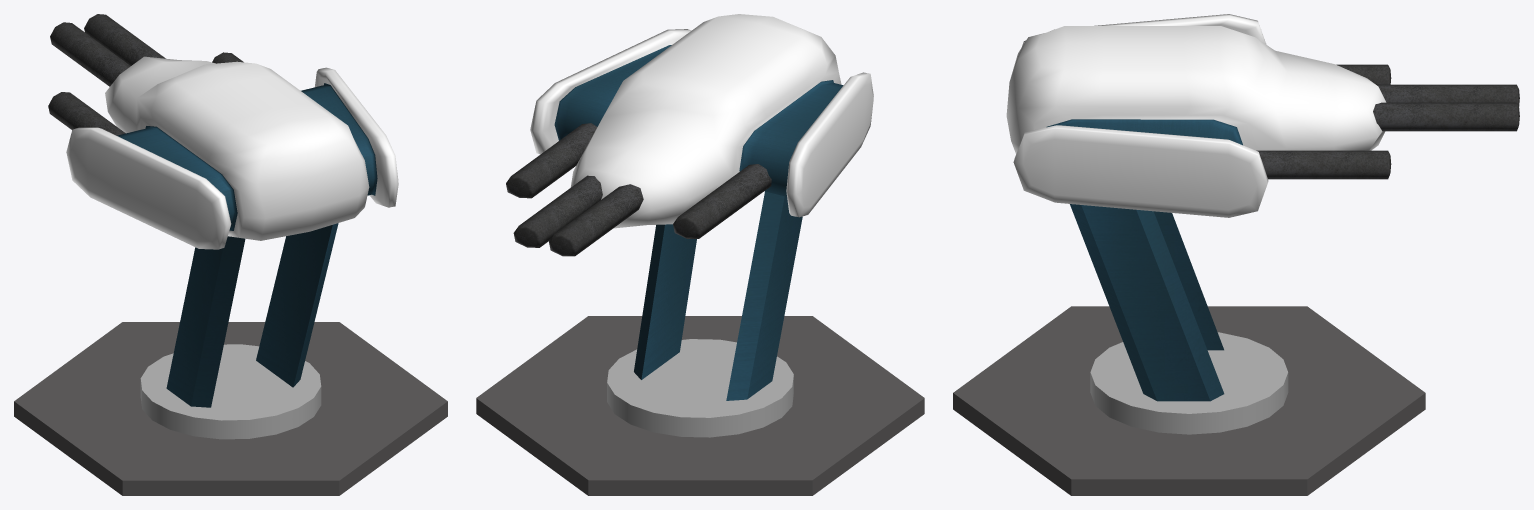
The model's file is basic03.fbx.
3 views of the same model, side by side, from view 1: azimuth 30°, elevation 25°; view 2: azimuth 150°, elevation 25°; view 3: azimuth 270°, elevation 25° (orthographic). The views are drawn at different scales.
Visible parts, largest first — view 1: polySurface592, pCylinder34; view 2: polySurface592, pCylinder34; view 3: polySurface592, pCylinder34.
Boxes of the visible parts, x1,y1,x2,y2 form: polySurface592: (48, 14, 398, 439); pCylinder34: (14, 322, 447, 495); polySurface592: (506, 14, 873, 437); pCylinder34: (476, 316, 924, 495); polySurface592: (1006, 14, 1519, 434); pCylinder34: (953, 306, 1425, 495).
Bounding box in the file's own units: 11.83 × 11.68 × 16.39.
